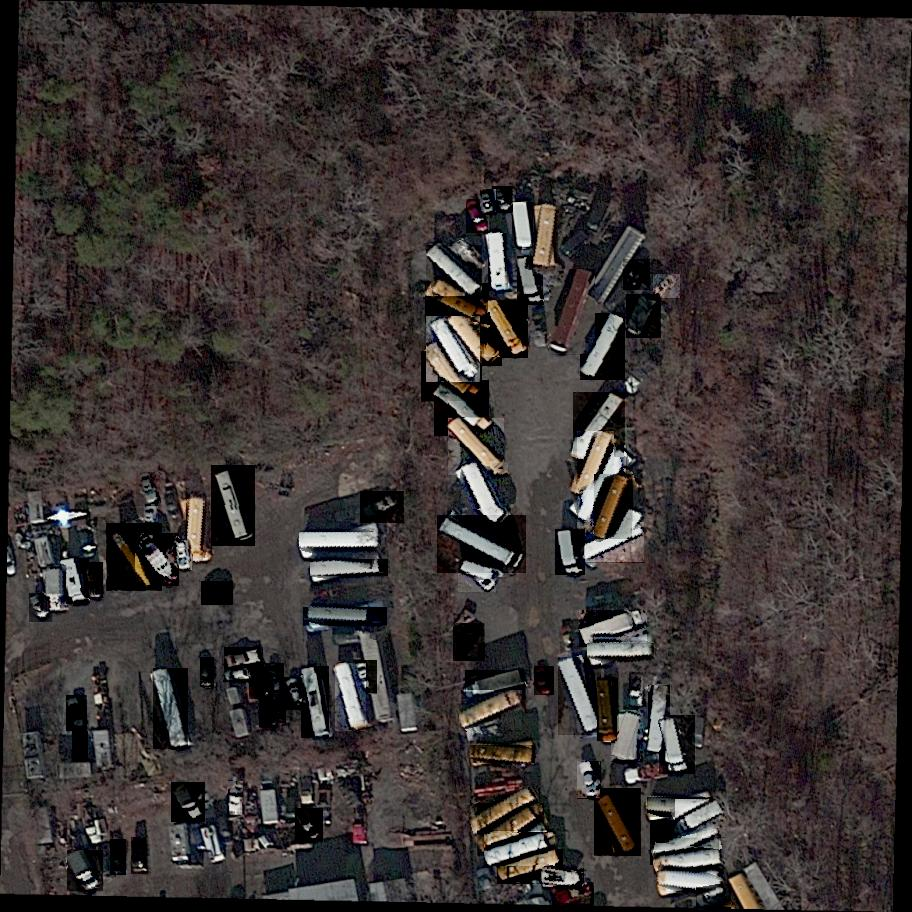large-vehicle: (437, 513, 528, 573), (549, 269, 595, 357), (107, 522, 163, 592), (209, 465, 256, 547), (426, 315, 481, 385), (578, 445, 626, 525), (477, 803, 545, 857), (440, 311, 503, 367), (471, 786, 540, 836), (558, 658, 602, 736), (462, 461, 509, 533), (574, 392, 626, 457), (448, 417, 505, 476), (434, 378, 489, 437), (595, 787, 642, 856), (421, 350, 482, 402), (651, 821, 720, 866), (581, 314, 627, 381), (153, 668, 189, 750), (427, 246, 483, 298), (578, 522, 645, 563), (459, 690, 524, 732), (484, 299, 529, 359), (484, 831, 557, 867), (594, 474, 633, 541), (580, 608, 647, 647), (425, 283, 490, 323), (497, 849, 563, 885), (577, 429, 615, 491), (660, 714, 697, 776), (675, 799, 727, 841), (336, 663, 367, 731), (301, 667, 329, 739), (465, 671, 526, 702), (654, 851, 724, 877), (611, 711, 644, 763), (535, 204, 558, 274), (627, 293, 661, 340), (303, 607, 387, 626), (648, 685, 671, 753), (171, 783, 208, 825), (459, 553, 497, 593), (67, 851, 103, 892), (555, 529, 585, 578), (300, 532, 379, 550), (597, 678, 619, 742), (310, 559, 387, 577), (61, 559, 91, 605), (647, 797, 713, 817), (518, 256, 544, 306), (658, 872, 723, 892), (470, 745, 535, 763), (488, 233, 507, 291), (187, 499, 204, 562), (512, 201, 533, 250), (588, 644, 653, 658), (48, 567, 67, 613)
ship: (136, 534, 181, 588), (543, 869, 585, 890)
small-vehicle: (360, 489, 403, 524), (453, 624, 486, 663), (552, 882, 594, 909), (559, 229, 593, 261), (578, 762, 604, 801), (295, 808, 324, 842), (623, 258, 651, 292), (224, 647, 265, 670), (696, 885, 732, 910), (249, 666, 275, 700), (284, 677, 310, 710), (353, 660, 377, 695), (137, 473, 161, 507), (464, 200, 488, 234), (66, 695, 88, 732), (201, 581, 234, 605), (30, 593, 54, 623), (653, 274, 680, 300), (132, 838, 150, 875), (85, 561, 103, 598), (535, 665, 555, 697), (109, 838, 126, 875), (174, 539, 193, 572), (493, 186, 514, 215), (259, 699, 279, 729), (629, 673, 646, 708), (266, 663, 285, 694), (227, 781, 244, 813), (72, 732, 89, 762), (109, 558, 124, 589), (480, 189, 497, 214), (225, 667, 253, 682), (145, 506, 160, 534), (200, 658, 214, 687), (275, 695, 285, 722)
